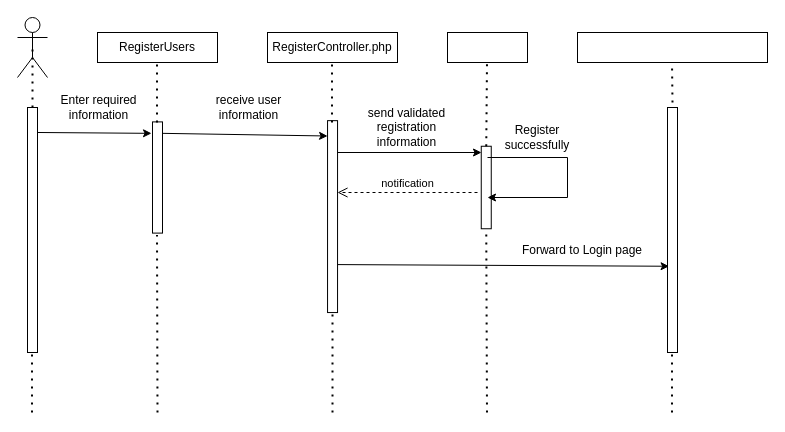
Image size: 785x432. Some labels were removed from this diagram. The centre of each missing label's shape, as x and y in pixels:
"RouteServiceProvider:: Home" goes at point (672, 47).
"User.php" goes at point (487, 47).
